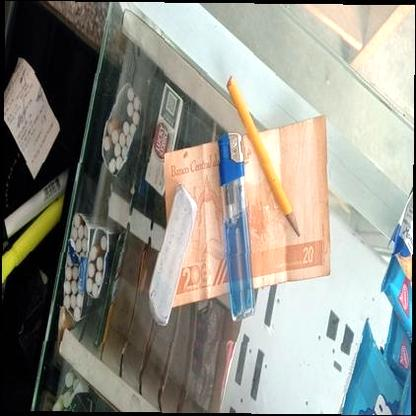twenty-back-vef: (164, 113, 330, 307)
